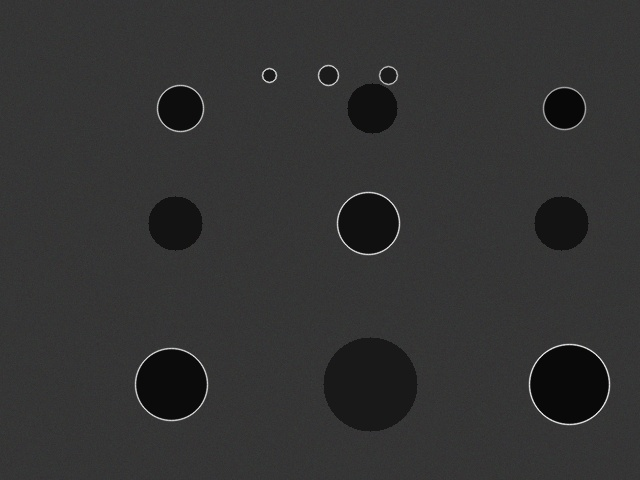hole: (323, 337, 417, 431), (529, 344, 609, 424), (135, 348, 207, 420), (337, 192, 399, 254), (148, 196, 202, 250), (534, 196, 588, 250), (347, 83, 397, 133), (157, 85, 203, 131), (543, 87, 585, 129), (318, 65, 338, 85), (379, 66, 397, 84), (262, 68, 276, 82)
